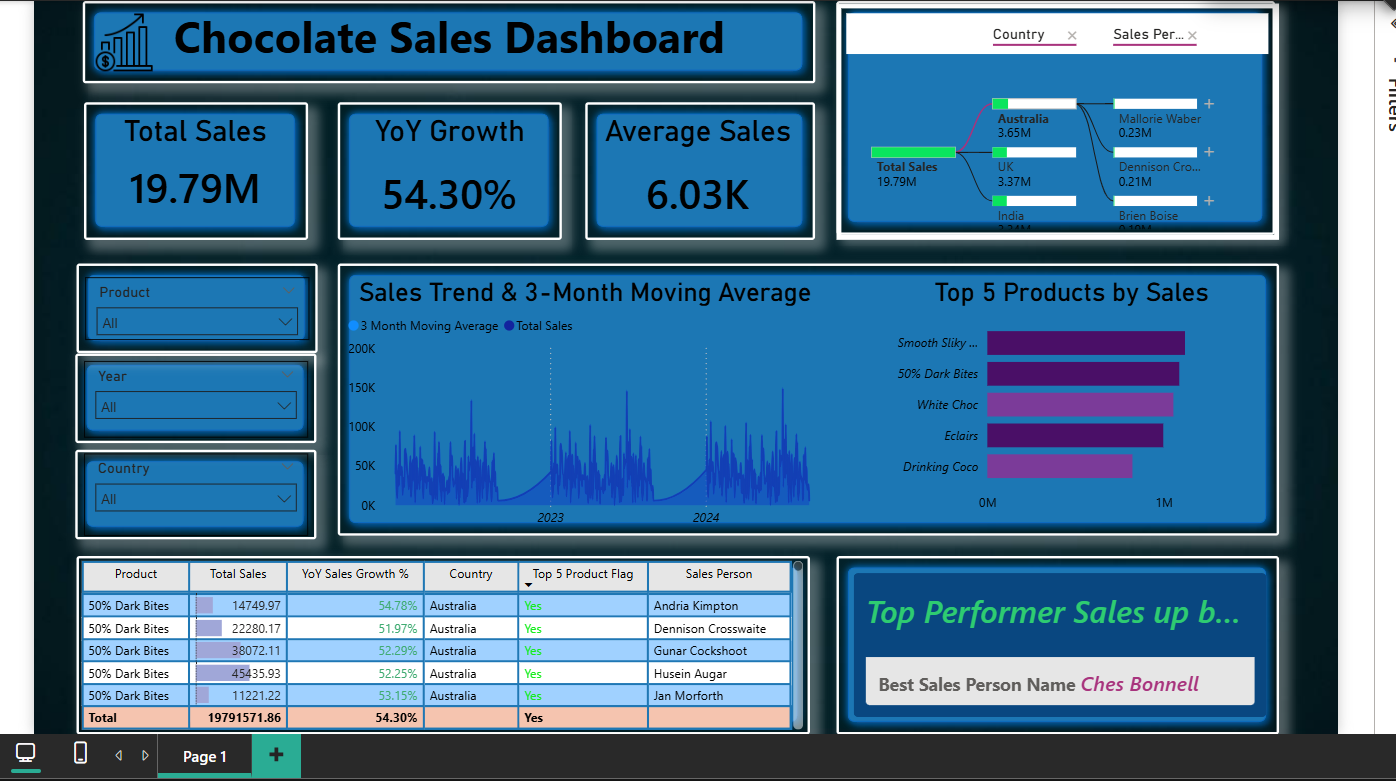

This screenshot's page, from the dashboard's own definition file:
{"tool":"powerbi","page":{"name":"Page 1","canvas":[1280,720],"ordinal":0},"visuals":[{"type":"shape","box":[541.1,99.4,225.8,135],"z":0},{"type":"shape","box":[47.9,0,719,81],"z":1000},{"type":"cardVisual","title":"Average Sales","fields":{"Data":["All Measures.Average Sales"]},"box":[541.1,110.4,220.9,123.9],"z":2000},{"type":"textbox","box":[49.1,0,717.8,68.7],"z":3000},{"type":"shape","box":[787.7,544.8,434.4,175.5],"z":4000},{"type":"shape","box":[41.7,544.8,720.2,175.5],"z":5000},{"type":"shape","box":[787.7,0,430.7,229.4],"z":6000},{"type":"shape","box":[298.2,257.7,923.9,267.5],"z":7000},{"type":"shape","box":[40.5,440.5,236.8,88.3],"z":8000},{"type":"shape","box":[40.5,346,236.8,88.3],"z":9000},{"type":"shape","box":[41.7,257.7,236.8,88.3],"z":10000},{"type":"lineChart","title":"Sales Trend & 3-Month  Moving Average","fields":{"Category":["Calendar.Date"],"Y":["All Measures.3 Month Moving Average","All Measures.Total Sales"]},"box":[303.1,271.2,476.1,254],"z":11000},{"type":"cardVisual","fields":{"Data":["All Measures.Product Performance Message 2"]},"box":[787.7,544.8,439.3,175.5],"z":12000},{"type":"tableEx","fields":{"Values":["Chocolate Sales.Product","All Measures.Total Sales","All Measures.YoY Sales Growth %","Chocolate Sales.Country","All Measures.Top 5 Product Flag","Chocolate Sales.Sales Person"]},"box":[40.5,544.8,719,175.5],"z":13000},{"type":"slicer","fields":{"Values":["Chocolate Sales.Country"]},"box":[49.1,444.2,219.6,81],"z":14000},{"type":"slicer","fields":{"Values":["Calendar.Year"]},"box":[49.1,353.4,219.6,74.8],"z":15000},{"type":"slicer","fields":{"Values":["Chocolate Sales.Product"]},"box":[50.3,271.2,219.6,61.4],"z":16000},{"type":"decompositionTreeVisual","fields":{"Analyze":["All Measures.Total Sales"],"ExplainBy":["Chocolate Sales.Country","Chocolate Sales.Sales Person","Chocolate Sales.Product"]},"box":[787.7,2.5,434.4,231.9],"z":17000},{"type":"shape","box":[298.2,99.4,219.6,135],"z":18000},{"type":"cardVisual","title":"YoY Growth","fields":{"Data":["All Measures.YoY Sales Growth %"]},"box":[298.2,110.4,219.6,123.9],"z":19000},{"type":"shape","box":[49.1,99.4,219.6,135],"z":20000},{"type":"cardVisual","title":"Total Sales","fields":{"Data":["All Measures.Total Sales"]},"box":[63.8,110.4,189,112.9],"z":21000},{"type":"barChart","title":"Top 5 Products by Sales","fields":{"Category":["Chocolate Sales.Product"],"Y":["All Measures.Total Sales"]},"box":[827,271.2,382.8,239.3],"z":22000},{"type":"image","box":[40.5,12.3,95.7,56.4],"z":23000}]}

Visuals, with their boxes in screenshot pixels (x1, y1, x2, y2):
shape: x1=581 y1=95 x2=814 y2=235
shape: x1=71 y1=0 x2=814 y2=76
"Average Sales" cardVisual: x1=581 y1=107 x2=809 y2=235
textbox: x1=73 y1=0 x2=814 y2=64
shape: x1=835 y1=555 x2=1284 y2=737
shape: x1=65 y1=555 x2=809 y2=737
shape: x1=835 y1=0 x2=1280 y2=230
shape: x1=330 y1=259 x2=1284 y2=535
shape: x1=64 y1=448 x2=308 y2=539
shape: x1=64 y1=350 x2=308 y2=441
shape: x1=65 y1=259 x2=309 y2=350
"Sales Trend & 3-Month  Moving Average" lineChart: x1=335 y1=273 x2=826 y2=535
cardVisual - All Measures.Product Performance Message 2: x1=835 y1=555 x2=1289 y2=737
tableEx - Chocolate Sales.Product x All Measures.Total Sales: x1=64 y1=555 x2=806 y2=737
slicer - Chocolate Sales.Country: x1=73 y1=451 x2=299 y2=535
slicer - Calendar.Year: x1=73 y1=358 x2=299 y2=435
slicer - Chocolate Sales.Product: x1=74 y1=273 x2=301 y2=336
decompositionTreeVisual - All Measures.Total Sales x Chocolate Sales.Country: x1=835 y1=0 x2=1284 y2=235
shape: x1=330 y1=95 x2=557 y2=235
"YoY Growth" cardVisual: x1=330 y1=107 x2=557 y2=235
shape: x1=73 y1=95 x2=299 y2=235
"Total Sales" cardVisual: x1=88 y1=107 x2=283 y2=223
"Top 5 Products by Sales" barChart: x1=876 y1=273 x2=1271 y2=520
image: x1=64 y1=5 x2=162 y2=64
